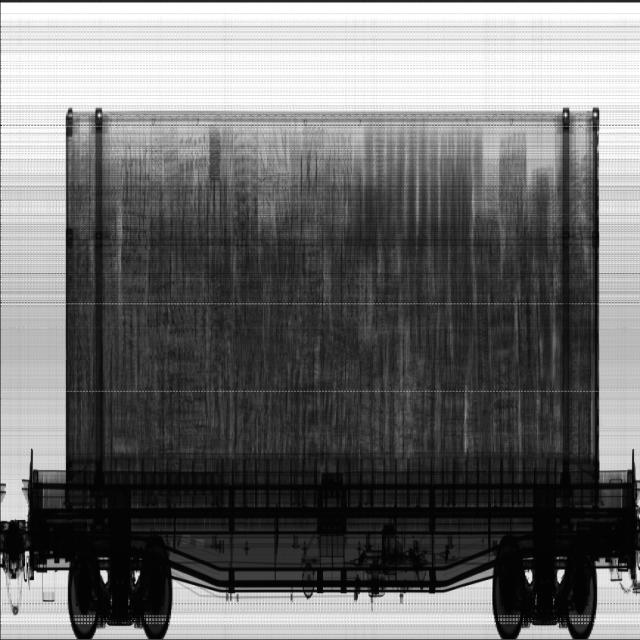shoes: (69, 123, 592, 464)
